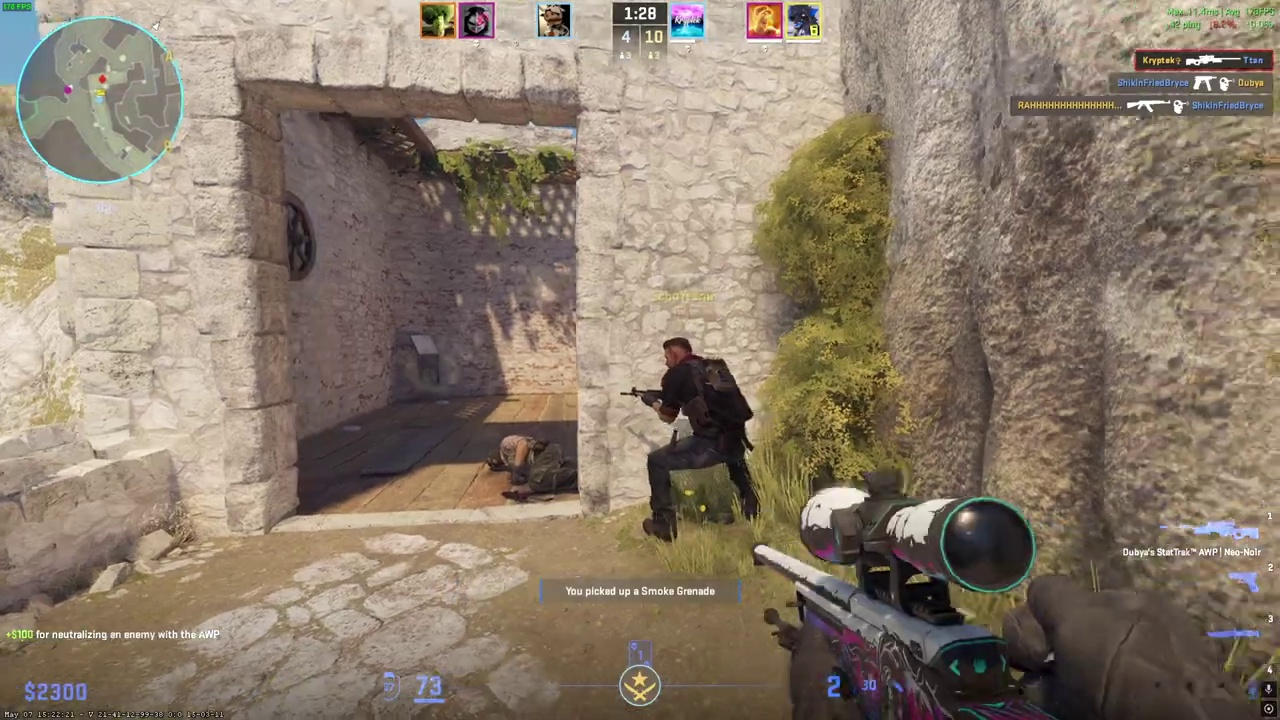Terrorist: (633, 332, 763, 549)
